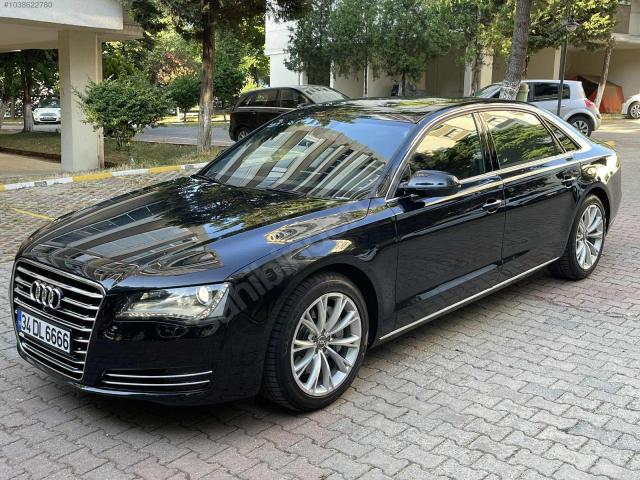plaka: (18, 312, 71, 352)
